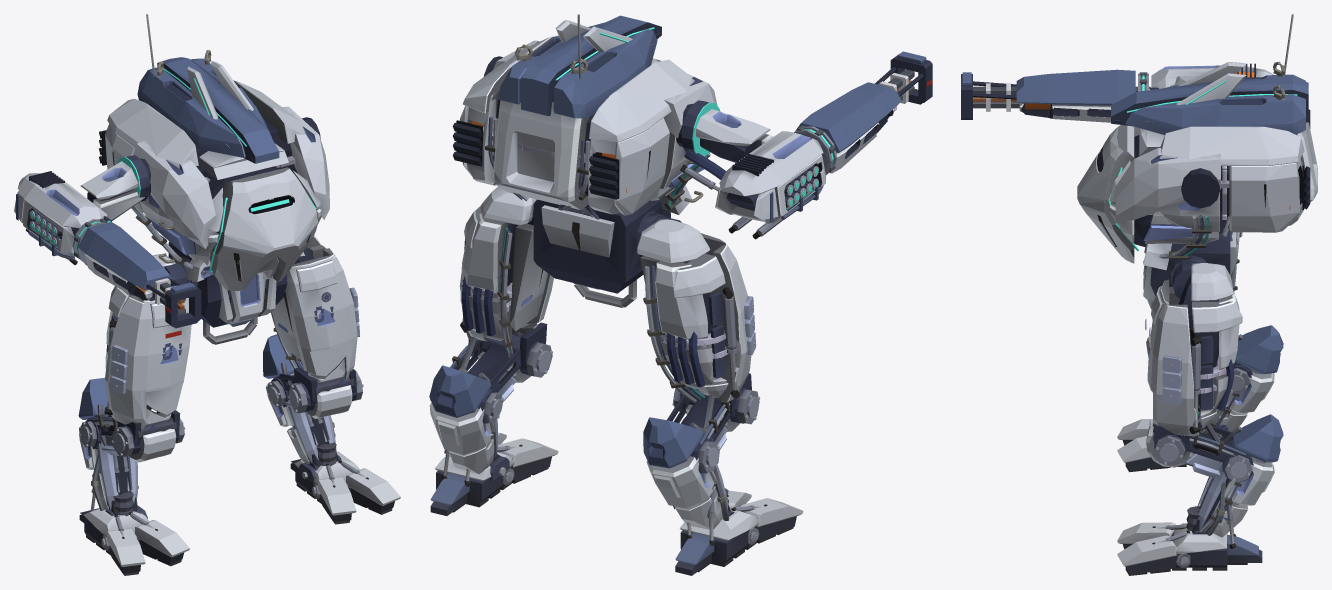
Rendered from rampart-railgun.glb.
The picture shows the model from 3 angles, left to right: view 1: azimuth 30°, elevation 25°; view 2: azimuth 150°, elevation 25°; view 3: azimuth 270°, elevation 25°; orthographic projection. The views are drawn at different scales.
Visible parts, largest first — view 1: Part_Torso, Part_Pod_R, Part_Thigh_R, Part_Thigh_L, Part_Foot_R, Part_Foot_L, Part_Pelvis, Part_Cannon_R, Part_Cannon_L, Part_Shin_R, Part_Shin_L; view 2: Part_Torso, Part_Pod_R, Part_Thigh_R, Part_Thigh_L, Part_Pelvis, Part_Cannon_R, Part_Foot_R, Part_Cannon_L, Part_Foot_L, Part_Shin_L, Part_Shin_R, Part_PodSpin_R; view 3: Part_Torso, Part_Thigh_L, Part_Pod_R, Part_Foot_L, Part_Cannon_L, Part_Cannon_R, Part_Shin_L, Part_Pelvis, Part_Foot_R.
Boxes of the visible parts, bbox=[...] form: Part_Torso: bbox=[99, 14, 329, 290]; Part_Pod_R: bbox=[14, 155, 201, 328]; Part_Thigh_R: bbox=[104, 254, 197, 446]; Part_Thigh_L: bbox=[271, 235, 359, 404]; Part_Foot_R: bbox=[79, 453, 189, 575]; Part_Foot_L: bbox=[290, 418, 400, 524]; Part_Pelvis: bbox=[168, 241, 304, 344]; Part_Cannon_R: bbox=[78, 378, 138, 514]; Part_Cannon_L: bbox=[263, 334, 338, 466]; Part_Shin_R: bbox=[88, 414, 185, 462]; Part_Shin_L: bbox=[273, 371, 363, 418]; Part_Torso: bbox=[452, 14, 717, 215]; Part_Pod_R: bbox=[680, 51, 932, 239]; Part_Thigh_R: bbox=[637, 213, 756, 437]; Part_Thigh_L: bbox=[458, 186, 553, 372]; Part_Pelvis: bbox=[533, 185, 691, 307]; Part_Cannon_R: bbox=[643, 417, 730, 529]; Part_Foot_R: bbox=[675, 467, 803, 575]; Part_Cannon_L: bbox=[429, 365, 503, 474]; Part_Foot_L: bbox=[430, 432, 558, 515]; Part_Shin_L: bbox=[450, 332, 552, 408]; Part_Shin_R: bbox=[667, 387, 760, 449]; Part_PodSpin_R: bbox=[794, 125, 837, 174]; Part_Torso: bbox=[1077, 14, 1317, 263]; Part_Thigh_L: bbox=[1145, 260, 1242, 452]; Part_Pod_R: bbox=[961, 63, 1274, 122]; Part_Foot_L: bbox=[1117, 480, 1262, 575]; Part_Cannon_L: bbox=[1192, 414, 1283, 537]; Part_Cannon_R: bbox=[1199, 325, 1283, 438]; Part_Shin_L: bbox=[1146, 421, 1246, 478]; Part_Pelvis: bbox=[1143, 212, 1237, 301]; Part_Foot_R: bbox=[1117, 411, 1219, 472].
Size of the model in its own units: 4.03 by 5.75 by 3.87.
